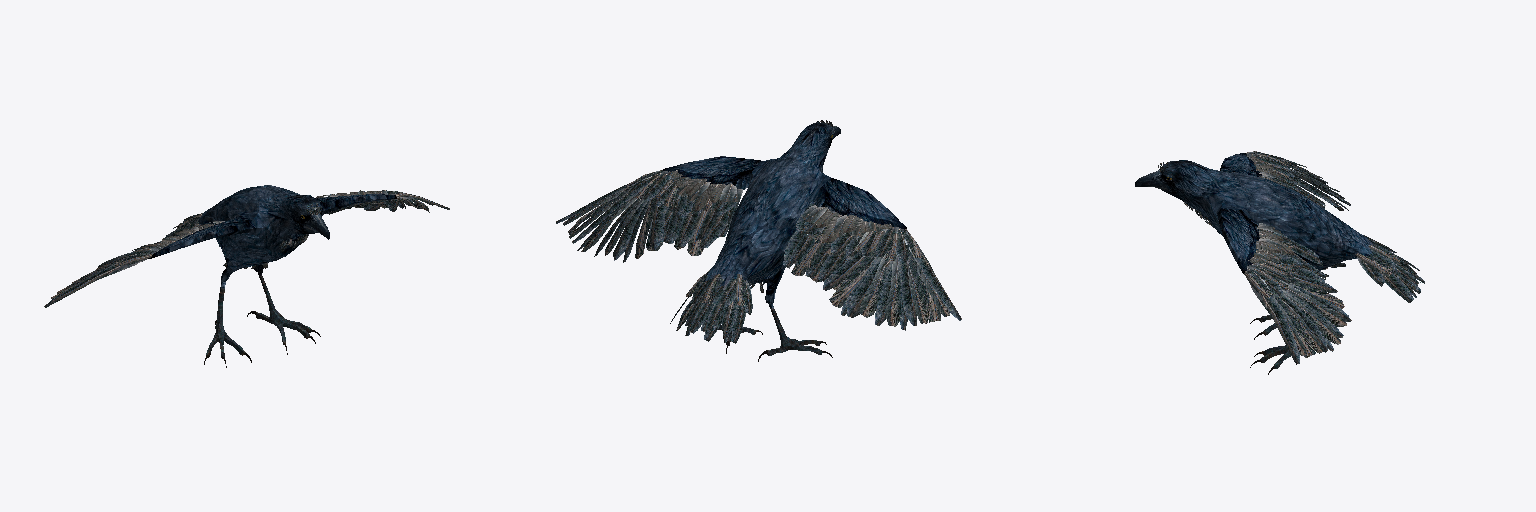
3 views of the same model, side by side, from view 1: azimuth 30°, elevation 25°; view 2: azimuth 150°, elevation 25°; view 3: azimuth 270°, elevation 25° (orthographic).
Parts seen in each view (by area): view 1: body, Feather; view 2: Feather, body; view 3: Feather, body.
Part boxes in pixels (x1,y1,x2,y2): body: (148, 185, 396, 367); Feather: (44, 190, 449, 307); Feather: (556, 120, 961, 343); body: (663, 122, 906, 361); Feather: (1158, 151, 1424, 364); body: (1135, 153, 1374, 374).
Size of the model in its own units: 4.98 by 2.2 by 3.09.
Materials: 2 (2 with a texture image).